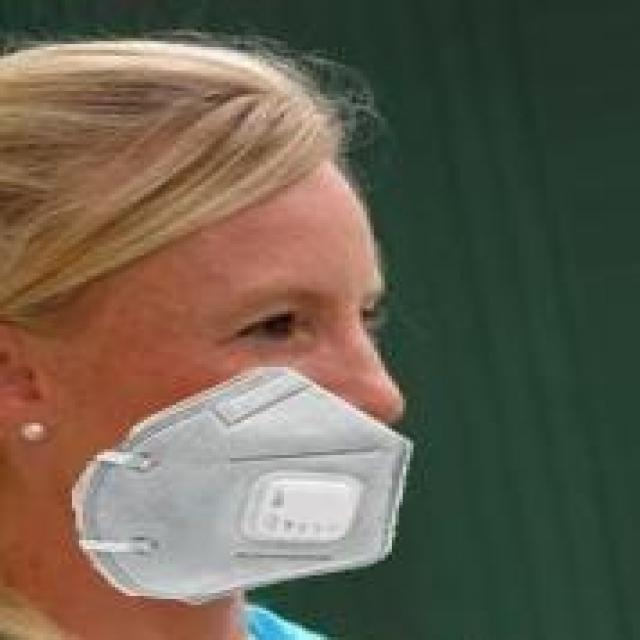mask: (11, 74, 442, 616)
